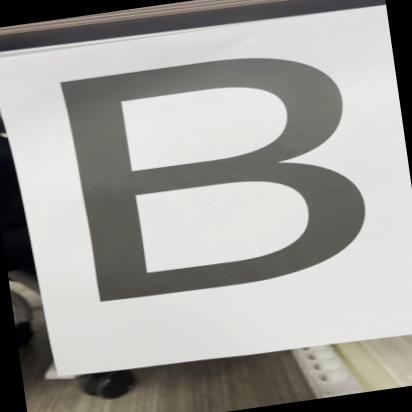seat: (33, 20, 405, 330)
